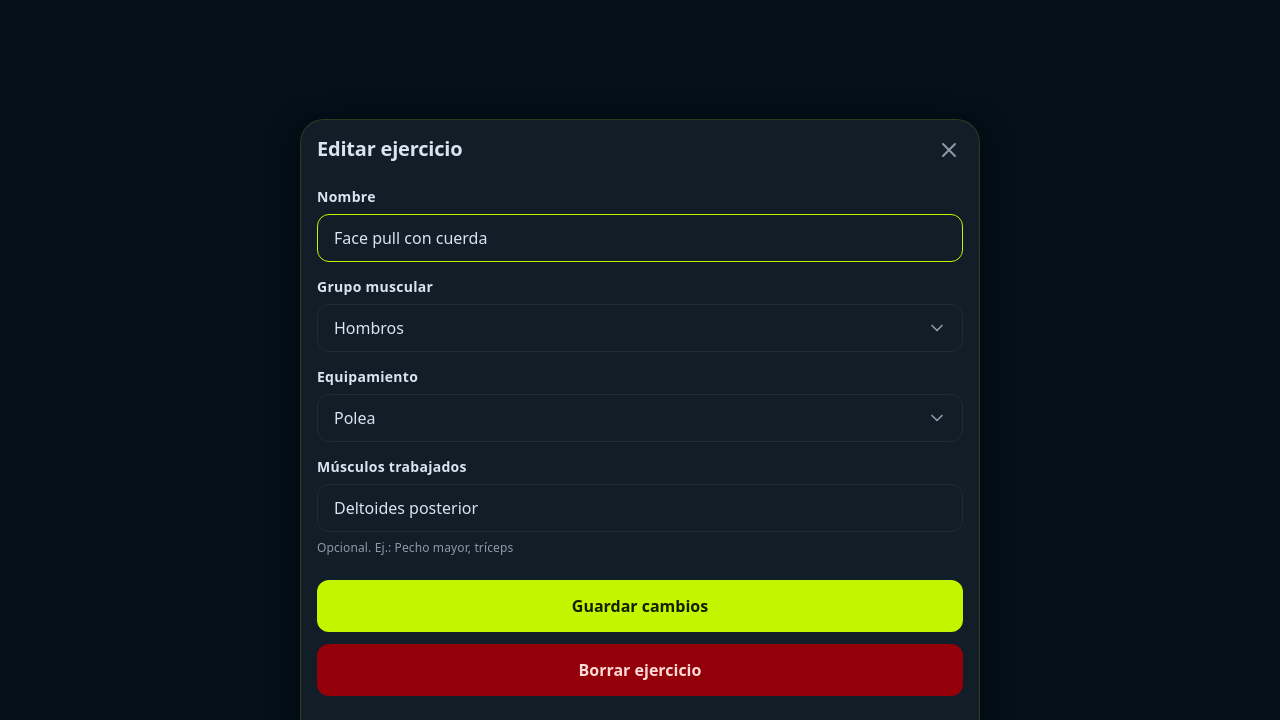
Scenario: ExerciseSheet: editar › si el repositorio falla al guardar enseña el aviso y deja reintentar
Click the button "Guardar cambios" at (640, 606), box [317,580,963,632]
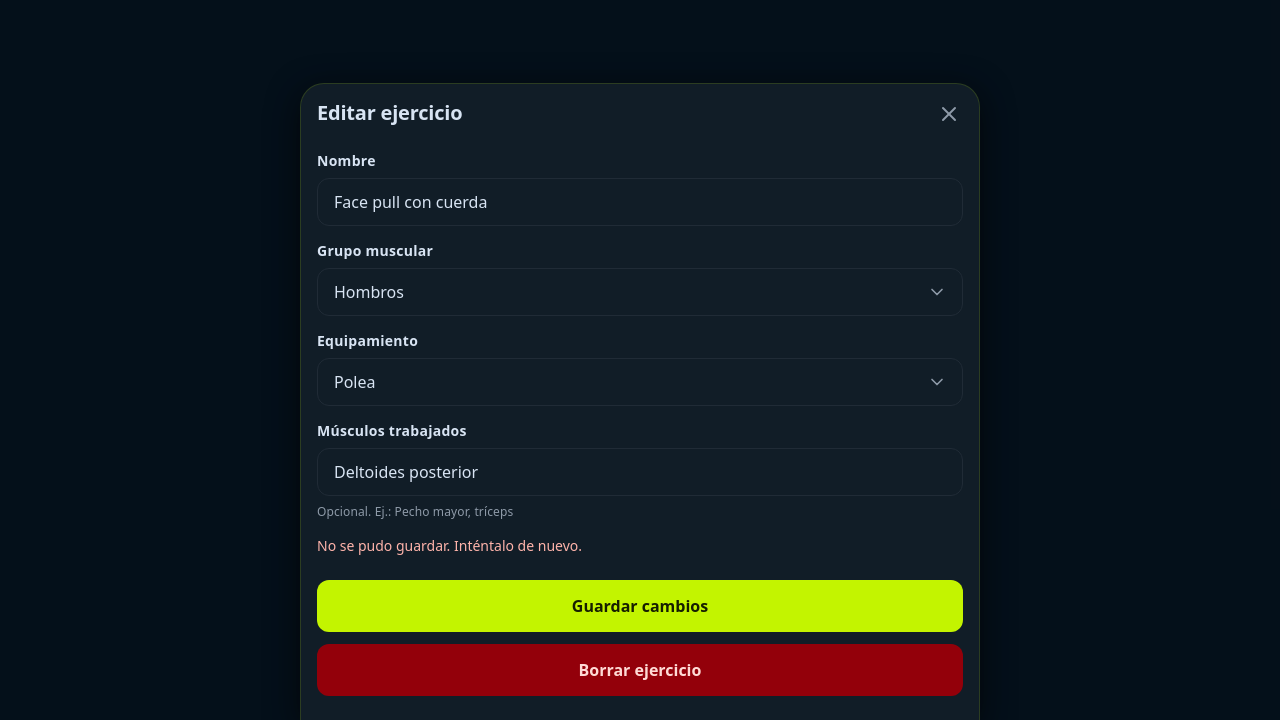
Expected: the button "Borrar ejercicio" is enabled, [317,644,963,696]
Expected: the message reads "No se pudo guardar. Inténtalo de nuevo.", [317,536,582,555]
